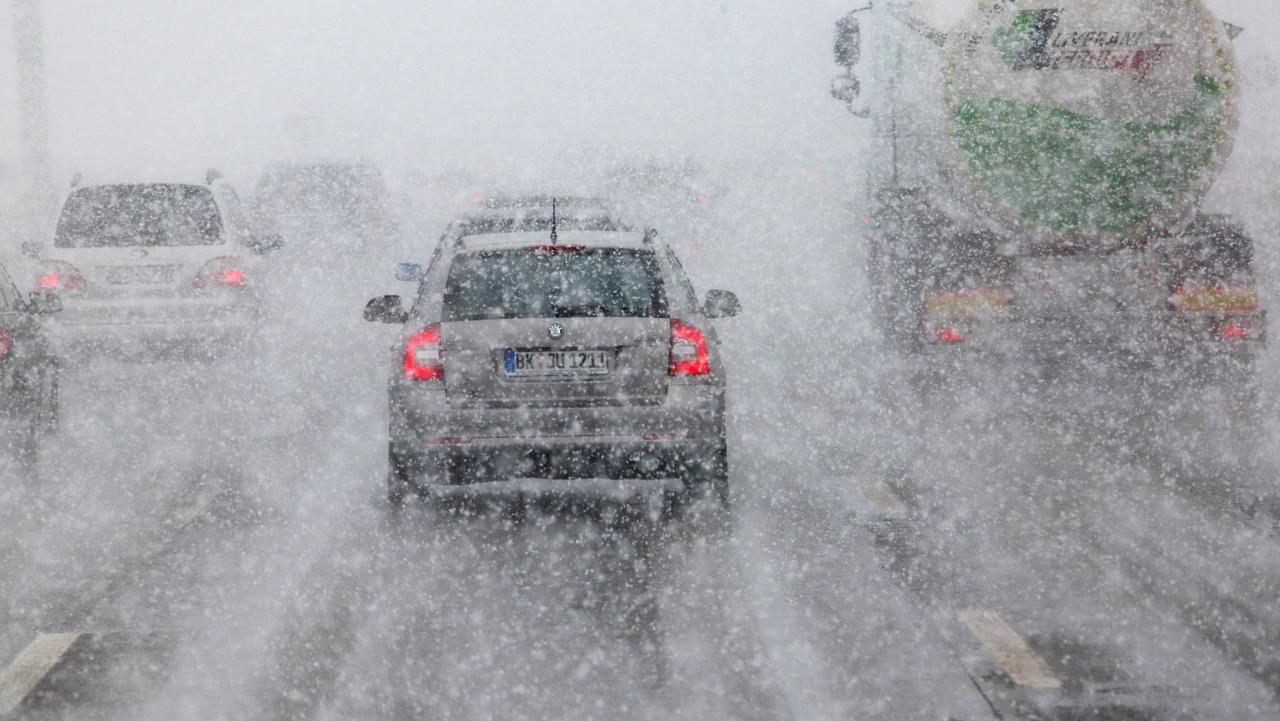car: (373, 204, 745, 520), (28, 180, 274, 369), (592, 157, 735, 262), (258, 162, 399, 268)
truck: (829, 26, 1264, 451)
